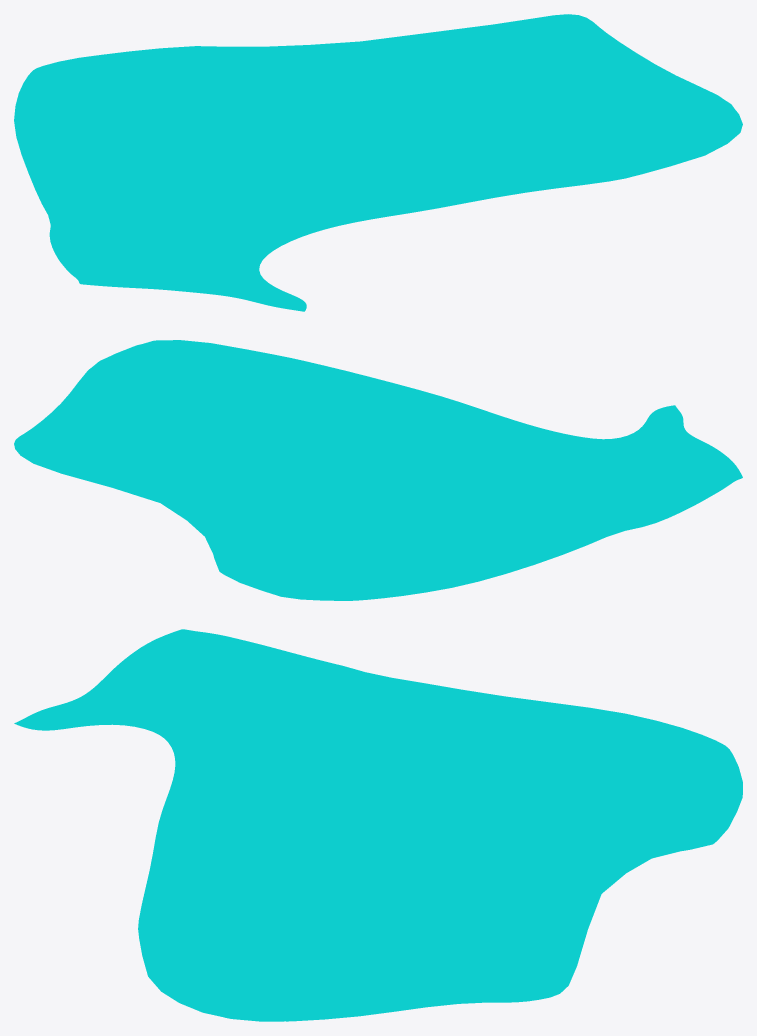
File: Water_pool.fbx
3 renders of one model, top to bottom at view 1: azimuth 30°, elevation 25°; view 2: azimuth 150°, elevation 25°; view 3: azimuth 270°, elevation 25°, orthographic. The views are drawn at different scales.
Visible parts, largest first — view 1: pPlane3; view 2: pPlane3; view 3: pPlane3.
Boxes of the visible parts, <box> form: pPlane3: <box>14,14,742,311</box>; pPlane3: <box>14,340,742,600</box>; pPlane3: <box>14,629,742,1021</box>.
Size of the model in its own units: 1886 by 74 by 1534.
